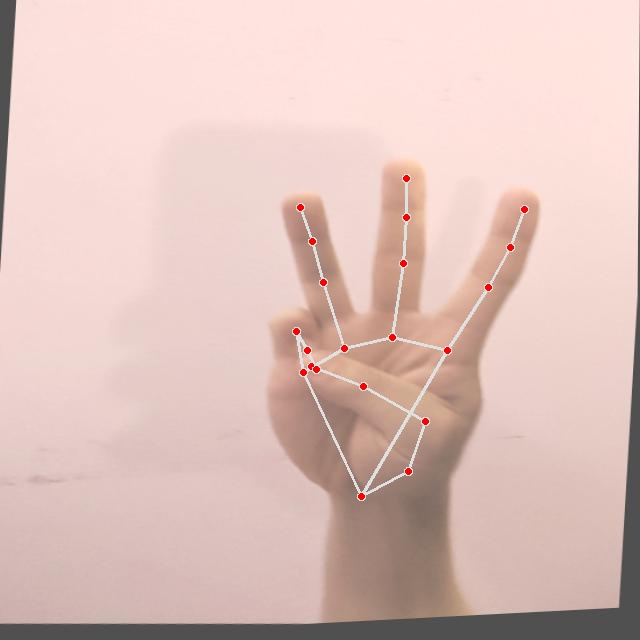W: (247, 146, 551, 522)
